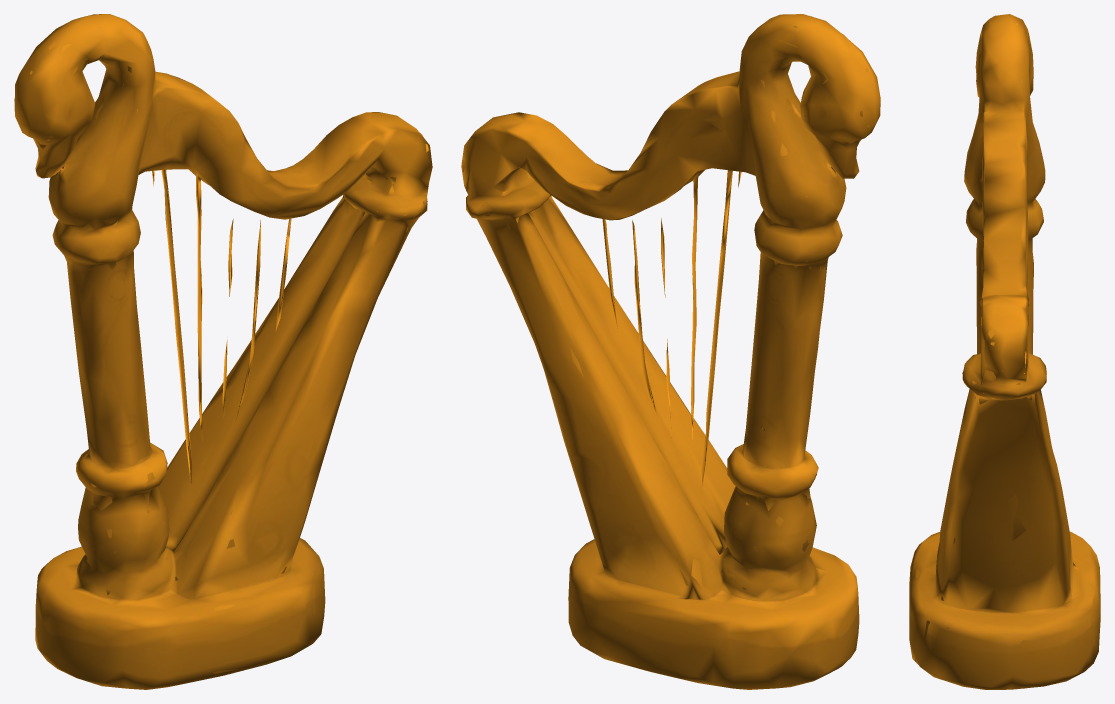
The model's file is golden_harp.glb.
3 renders of one model, left to right at view 1: azimuth 30°, elevation 25°; view 2: azimuth 150°, elevation 25°; view 3: azimuth 270°, elevation 25°, orthographic. The views are drawn at different scales.
Parts seen in each view (by area): view 1: golden_harp; view 2: golden_harp; view 3: golden_harp.
Part boxes in pixels (x1,y1,x2,y2): golden_harp: (14,14,432,689); golden_harp: (461,14,880,689); golden_harp: (909,14,1100,689).
Size of the model in its own units: 1.19 by 1.8 by 0.541.
Materials: 1 (1 with a texture image).
